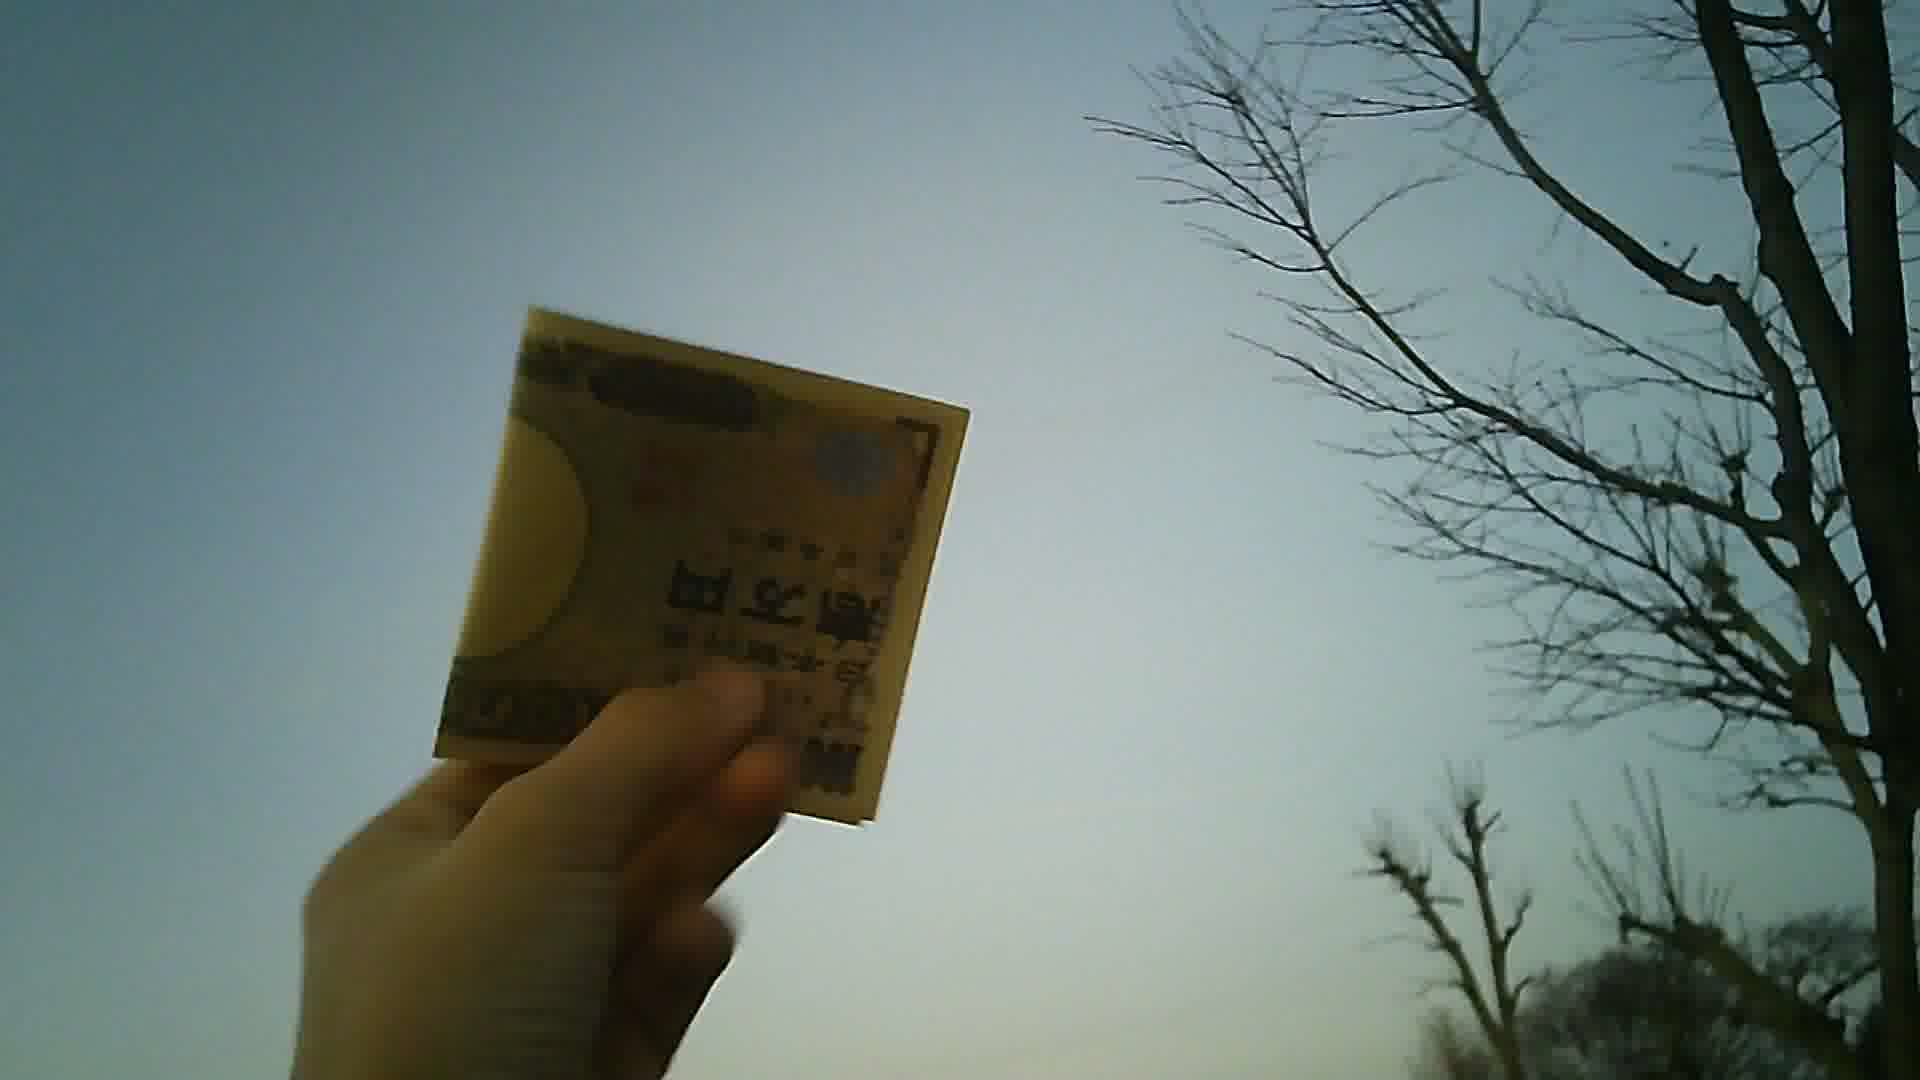10,000 Yen: (425, 277, 935, 858)
